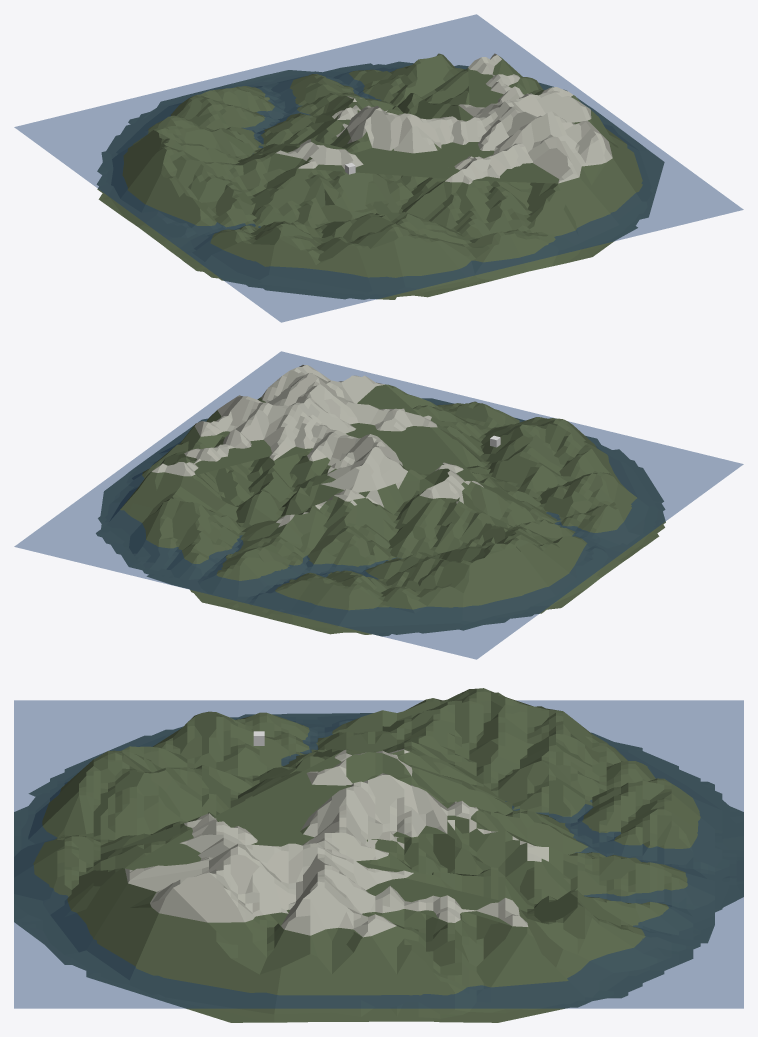
The model's file is pena-mea-vignette.fbx.
3 views of the same model, one above another, from view 1: azimuth 30°, elevation 25°; view 2: azimuth 150°, elevation 25°; view 3: azimuth 270°, elevation 25° (orthographic). The views are drawn at different scales.
Visible parts, largest first — view 1: Plane, Plane.001; view 2: Plane, Plane.001; view 3: Plane, Plane.001.
Part boxes in pixels (x1,y1,x2,y2): Plane: (97,53,664,299); Plane.001: (14,14,743,322); Plane: (96,364,665,636); Plane.001: (14,351,743,659); Plane: (14,688,743,1022); Plane.001: (14,700,743,1008).
Bounding box in the file's own units: 1500 × 235 × 1500.
